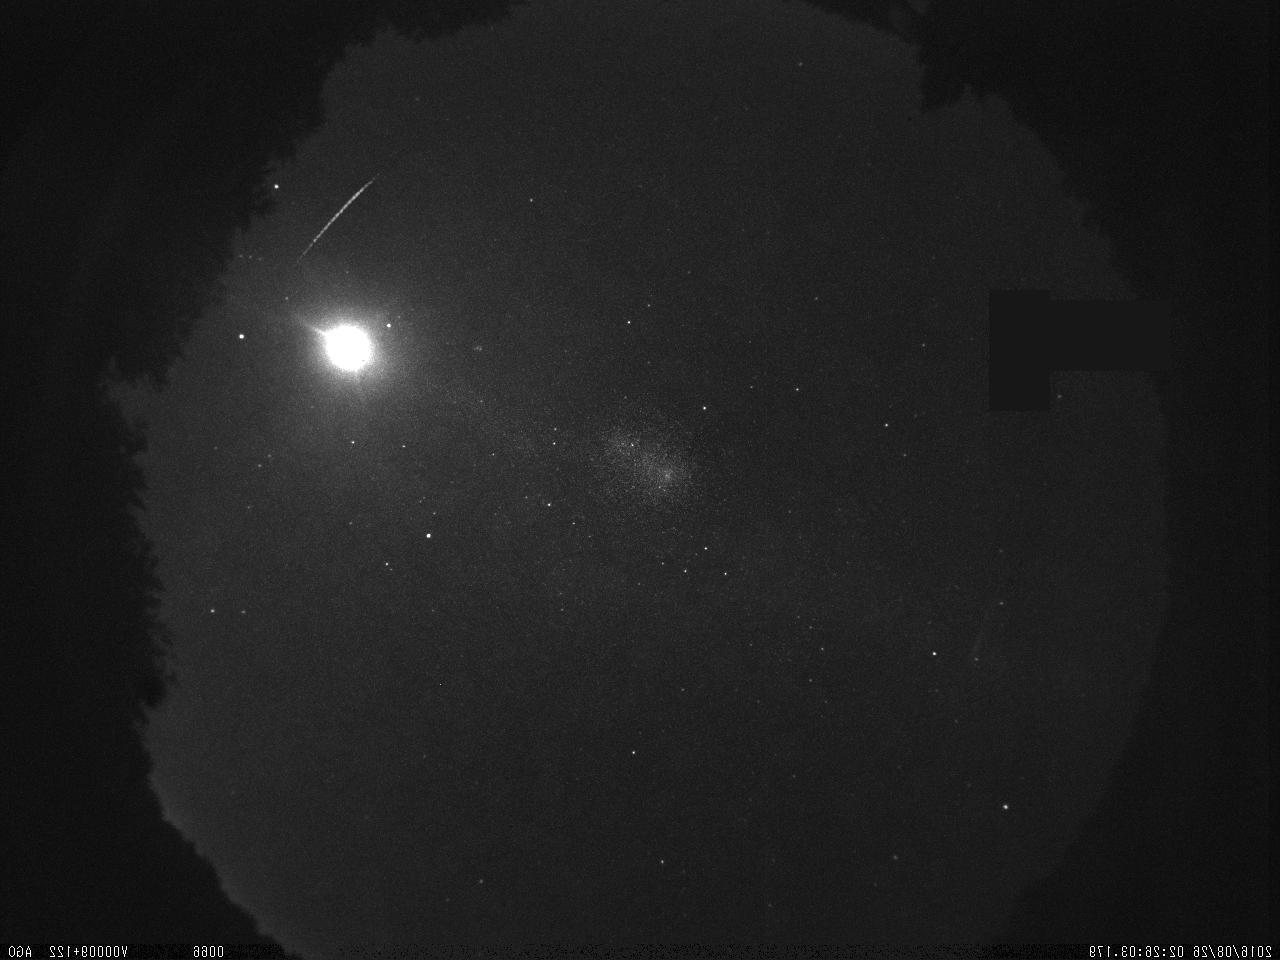meteor: (287, 160, 384, 279)
